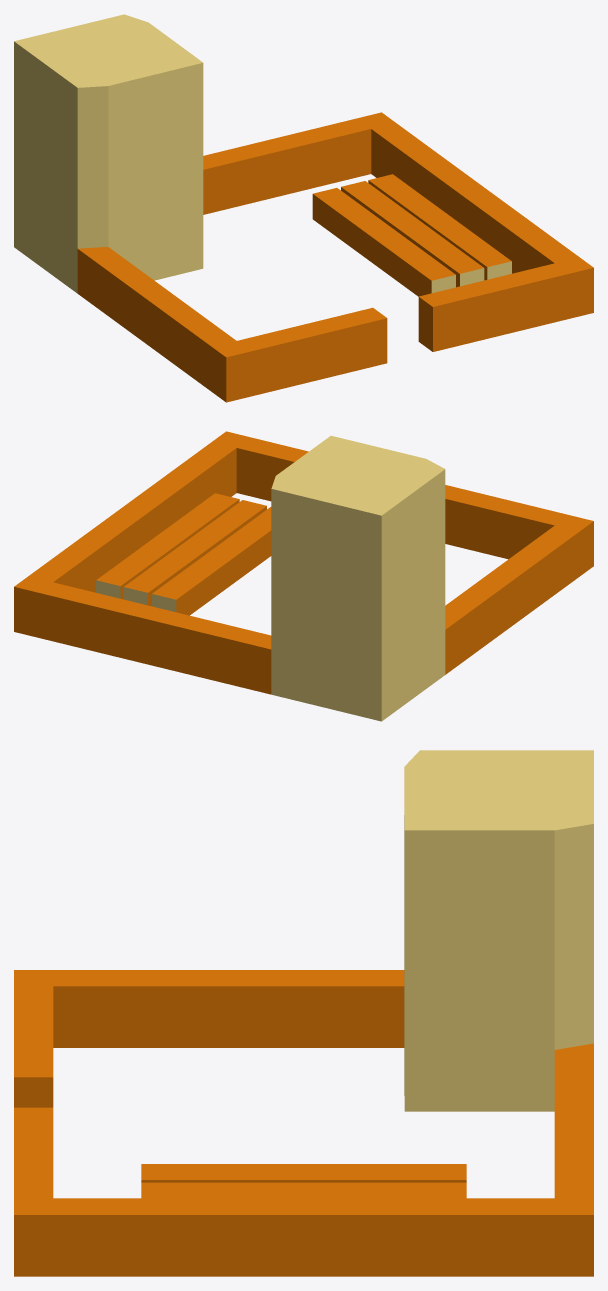
Rendered from Woodyard.glb.
The picture shows the model from 3 angles, top to bottom: view 1: azimuth 30°, elevation 25°; view 2: azimuth 150°, elevation 25°; view 3: azimuth 270°, elevation 25°; orthographic projection. The views are drawn at different scales.
Parts seen in each view (by area): view 1: Lumber yard; view 2: Lumber yard; view 3: Lumber yard.
Boxes of the visible parts, box(x1,y1,x2,y2) form: Lumber yard: box(14, 14, 593, 402); Lumber yard: box(14, 431, 593, 721); Lumber yard: box(14, 750, 593, 1276).
Size of the model in its own units: 1.38 by 0.739 by 1.38.
